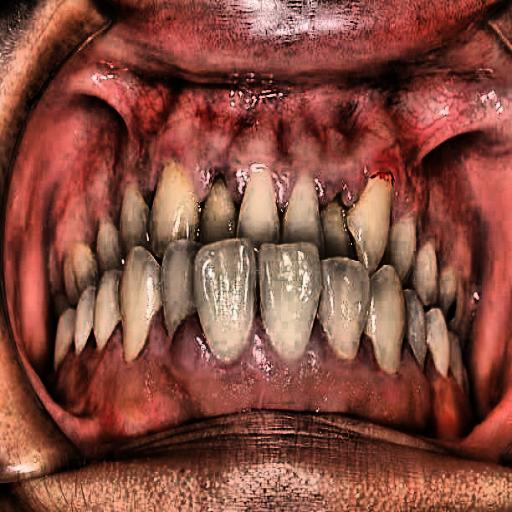Gingivitis: (109, 89, 419, 208), (49, 336, 362, 422)
